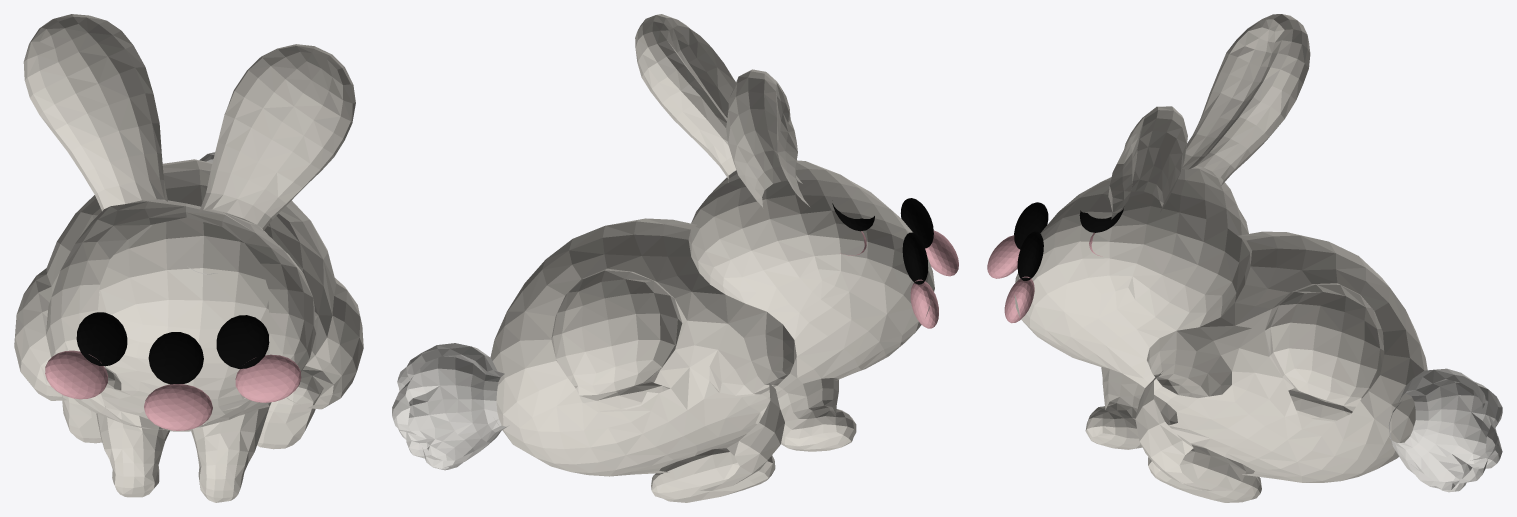
File: usagi.glb
3 renders of one model, left to right at view 1: azimuth 30°, elevation 25°; view 2: azimuth 150°, elevation 25°; view 3: azimuth 270°, elevation 25°, orthographic. The views are drawn at different scales.
Visible parts, largest first — view 1: geometry_0; view 2: geometry_0; view 3: geometry_0.
Boxes of the visible parts, x1,y1,x2,y2 form: geometry_0: [14, 14, 363, 502]; geometry_0: [392, 14, 958, 502]; geometry_0: [987, 14, 1502, 502].
Bounding box in the file's own units: 0.1435 × 0.1519 × 0.1767.
